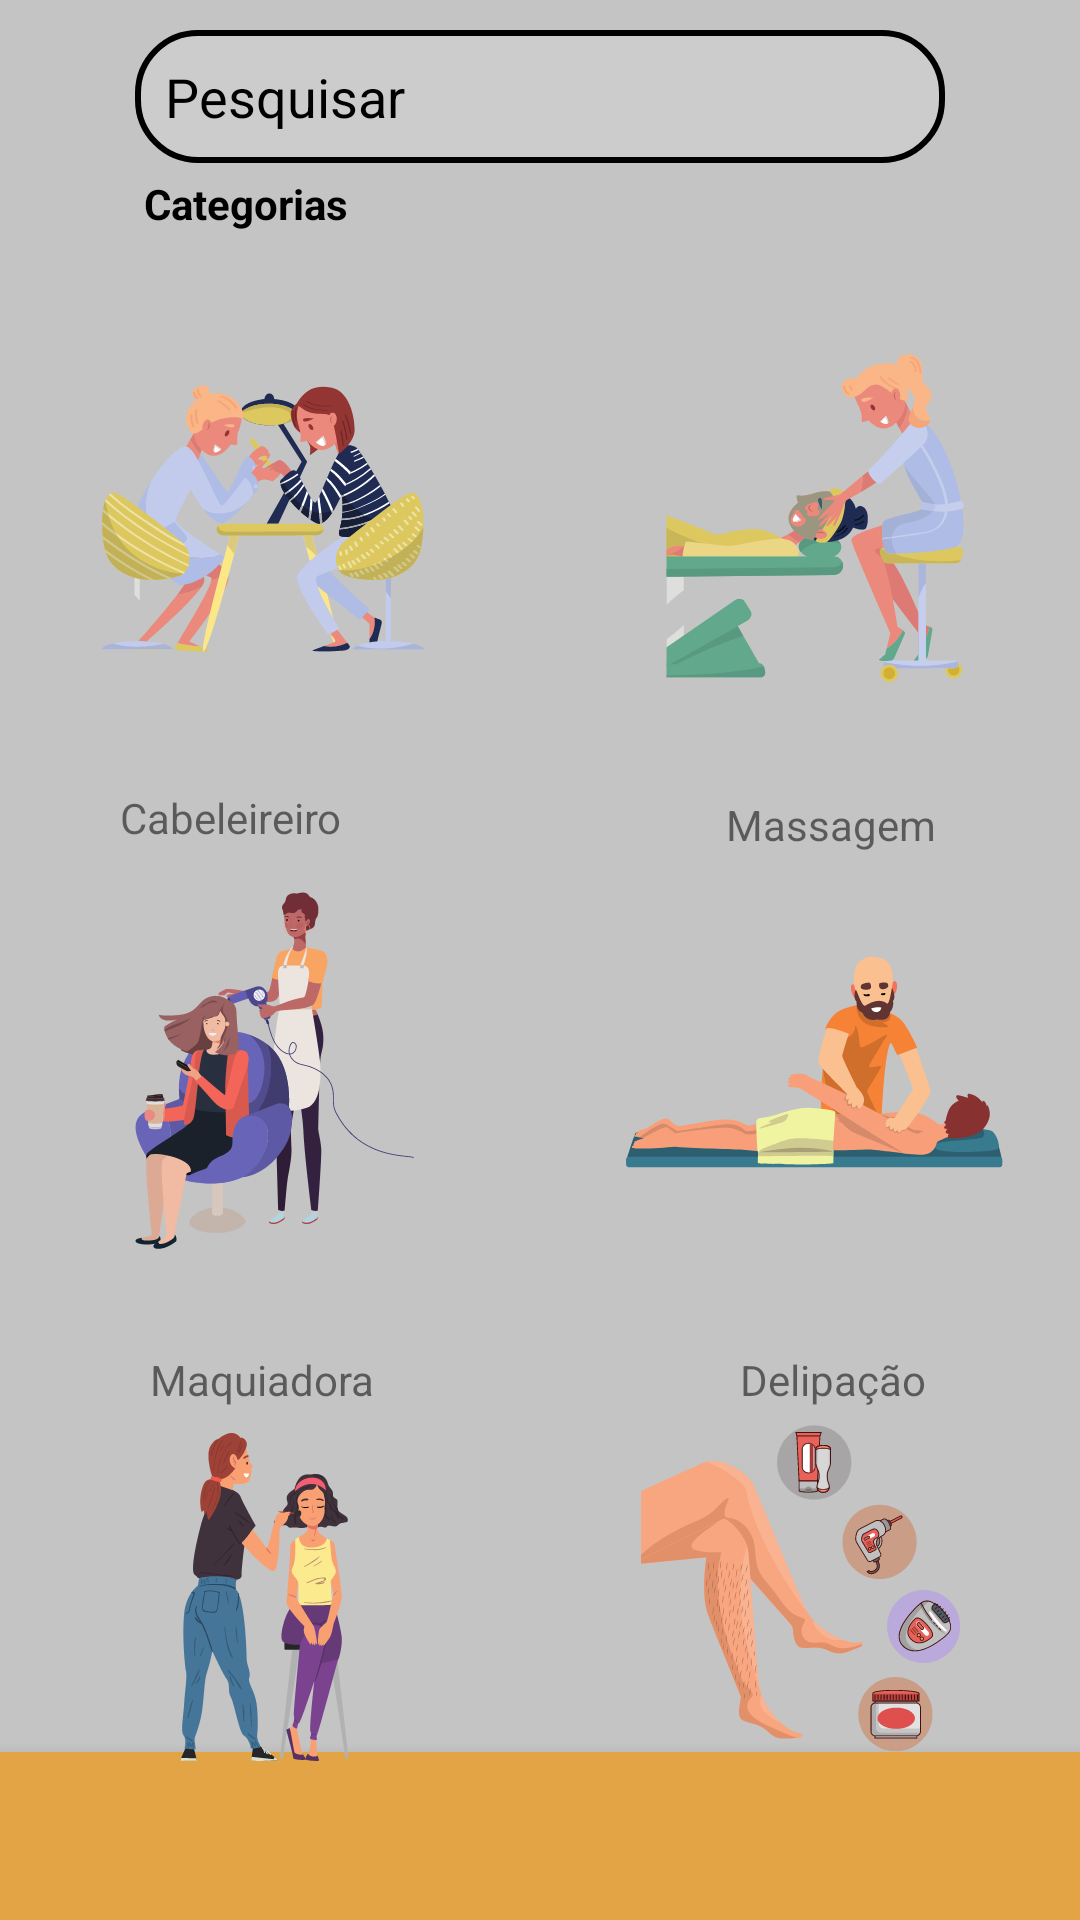

Named icons in this screenshot (1080px×1920px) and their centers, [x,y]:
limpeza epele: [814,518]
manicure: [263,518]
